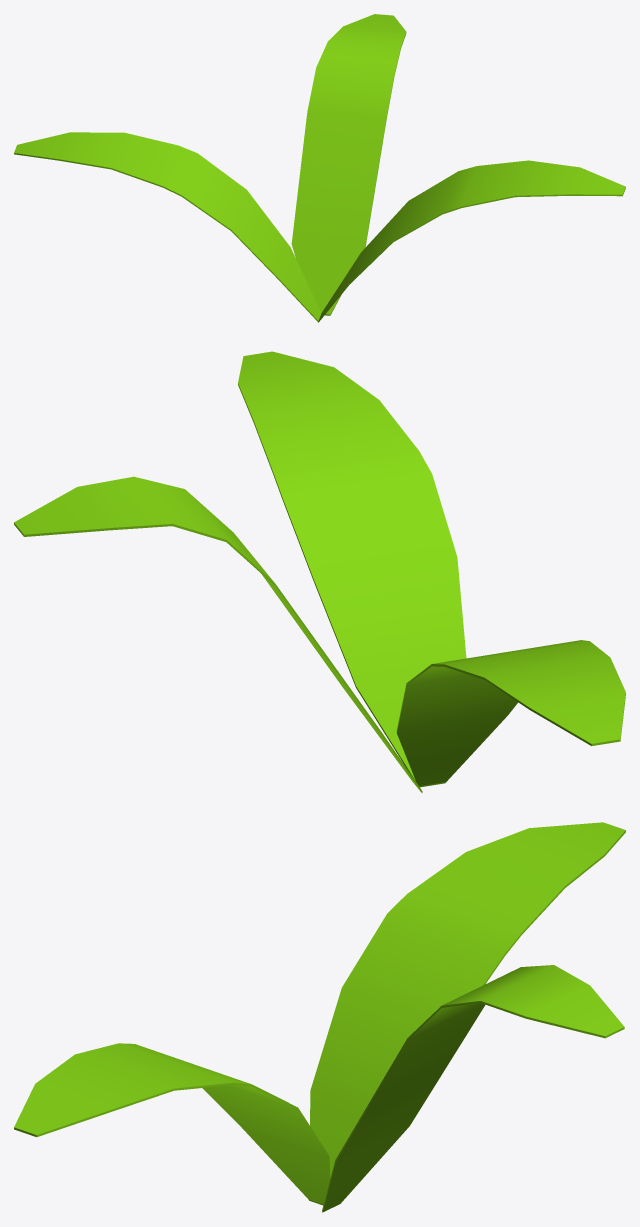
File: Grass003.fbx
3 views of the same model, one above another, from view 1: azimuth 30°, elevation 25°; view 2: azimuth 150°, elevation 25°; view 3: azimuth 270°, elevation 25° (orthographic). The views are drawn at different scales.
Parts seen in each view (by area): view 1: Plane.002; view 2: Plane.002; view 3: Plane.002.
Boxes of the visible parts, <box> form: Plane.002: <box>14,14,625,322</box>; Plane.002: <box>14,351,625,792</box>; Plane.002: <box>14,822,625,1212</box>.
Size of the model in its own units: 61.52 by 27.73 by 50.85.
1 material, 1 textured.
